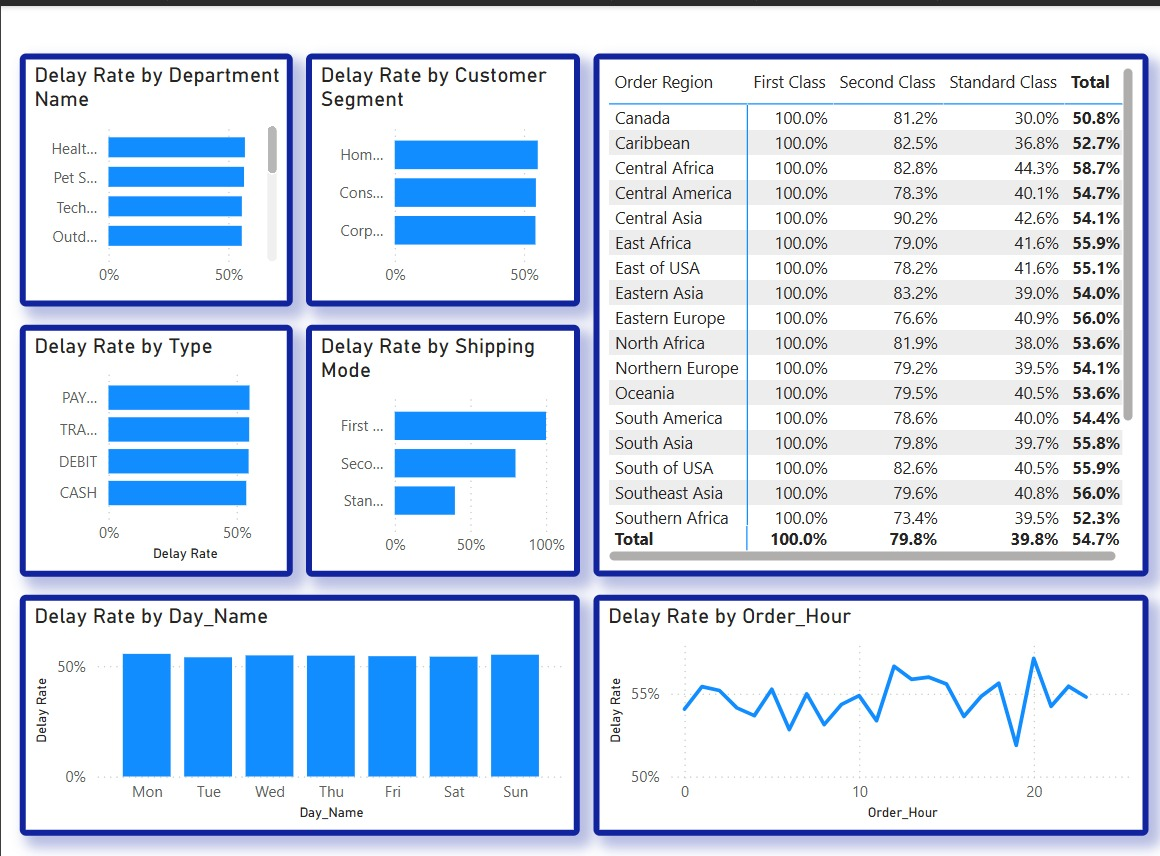

What the dashboard file says about the page in this screenshot:
{"tool":"powerbi","page":{"name":"Delivery Performance & RCA","canvas":[1280,720],"ordinal":1},"visuals":[{"type":"barChart","fields":{"Category":["Fact_OrderLines.Department Name"],"Y":["_Measures.Delay Rate"]},"box":[20,20,300,220],"z":0},{"type":"barChart","fields":{"Category":["Fact_OrderLines.Customer Segment"],"Y":["_Measures.Delay Rate"]},"box":[335,20,300,220],"z":1000},{"type":"barChart","fields":{"Category":["Fact_OrderLines.Type"],"Y":["_Measures.Delay Rate"]},"box":[20,255,300,220],"z":2000},{"type":"barChart","fields":{"Category":["Fact_OrderLines.Shipping Mode"],"Y":["_Measures.Delay Rate"]},"box":[335,255,300,220],"z":3000},{"type":"pivotTable","fields":{"Rows":["Fact_OrderLines.Order Region"],"Columns":["Fact_OrderLines.Shipping Mode"],"Values":["_Measures.Delay Rate"]},"box":[650,20,610,455],"z":4000},{"type":"columnChart","fields":{"Category":["Dim_Calendar.Day_Name"],"Y":["_Measures.Delay Rate"]},"box":[20,490,615,210],"z":5000},{"type":"lineChart","fields":{"Category":["Fact_OrderLines.Order_Hour"],"Y":["_Measures.Delay Rate"]},"box":[650,490,610,210],"z":6000}]}

Visuals, with their boxes on the page's 1280x720 design canvas (x1, y1, x2, y2). These are canvas units, not pixel positions in the 1160x856 screenshot, which may show the page scaled, cropped or inside an application window:
barChart - Fact_OrderLines.Department Name x _Measures.Delay Rate: crop(20, 20, 320, 240)
barChart - Fact_OrderLines.Customer Segment x _Measures.Delay Rate: crop(335, 20, 635, 240)
barChart - Fact_OrderLines.Type x _Measures.Delay Rate: crop(20, 255, 320, 475)
barChart - Fact_OrderLines.Shipping Mode x _Measures.Delay Rate: crop(335, 255, 635, 475)
pivotTable - Fact_OrderLines.Order Region x Fact_OrderLines.Shipping Mode: crop(650, 20, 1260, 475)
columnChart - Dim_Calendar.Day_Name x _Measures.Delay Rate: crop(20, 490, 635, 700)
lineChart - Fact_OrderLines.Order_Hour x _Measures.Delay Rate: crop(650, 490, 1260, 700)
